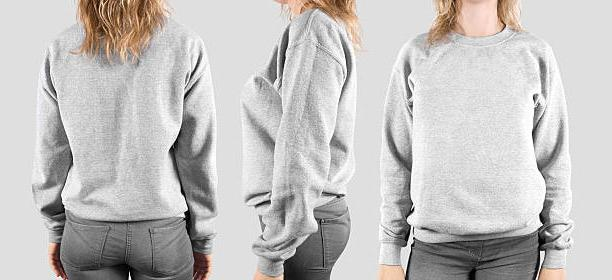sweater: (377, 24, 576, 267), (30, 16, 220, 257), (239, 6, 360, 276)
trousers: (57, 208, 195, 280), (258, 196, 352, 280), (403, 227, 543, 280)
